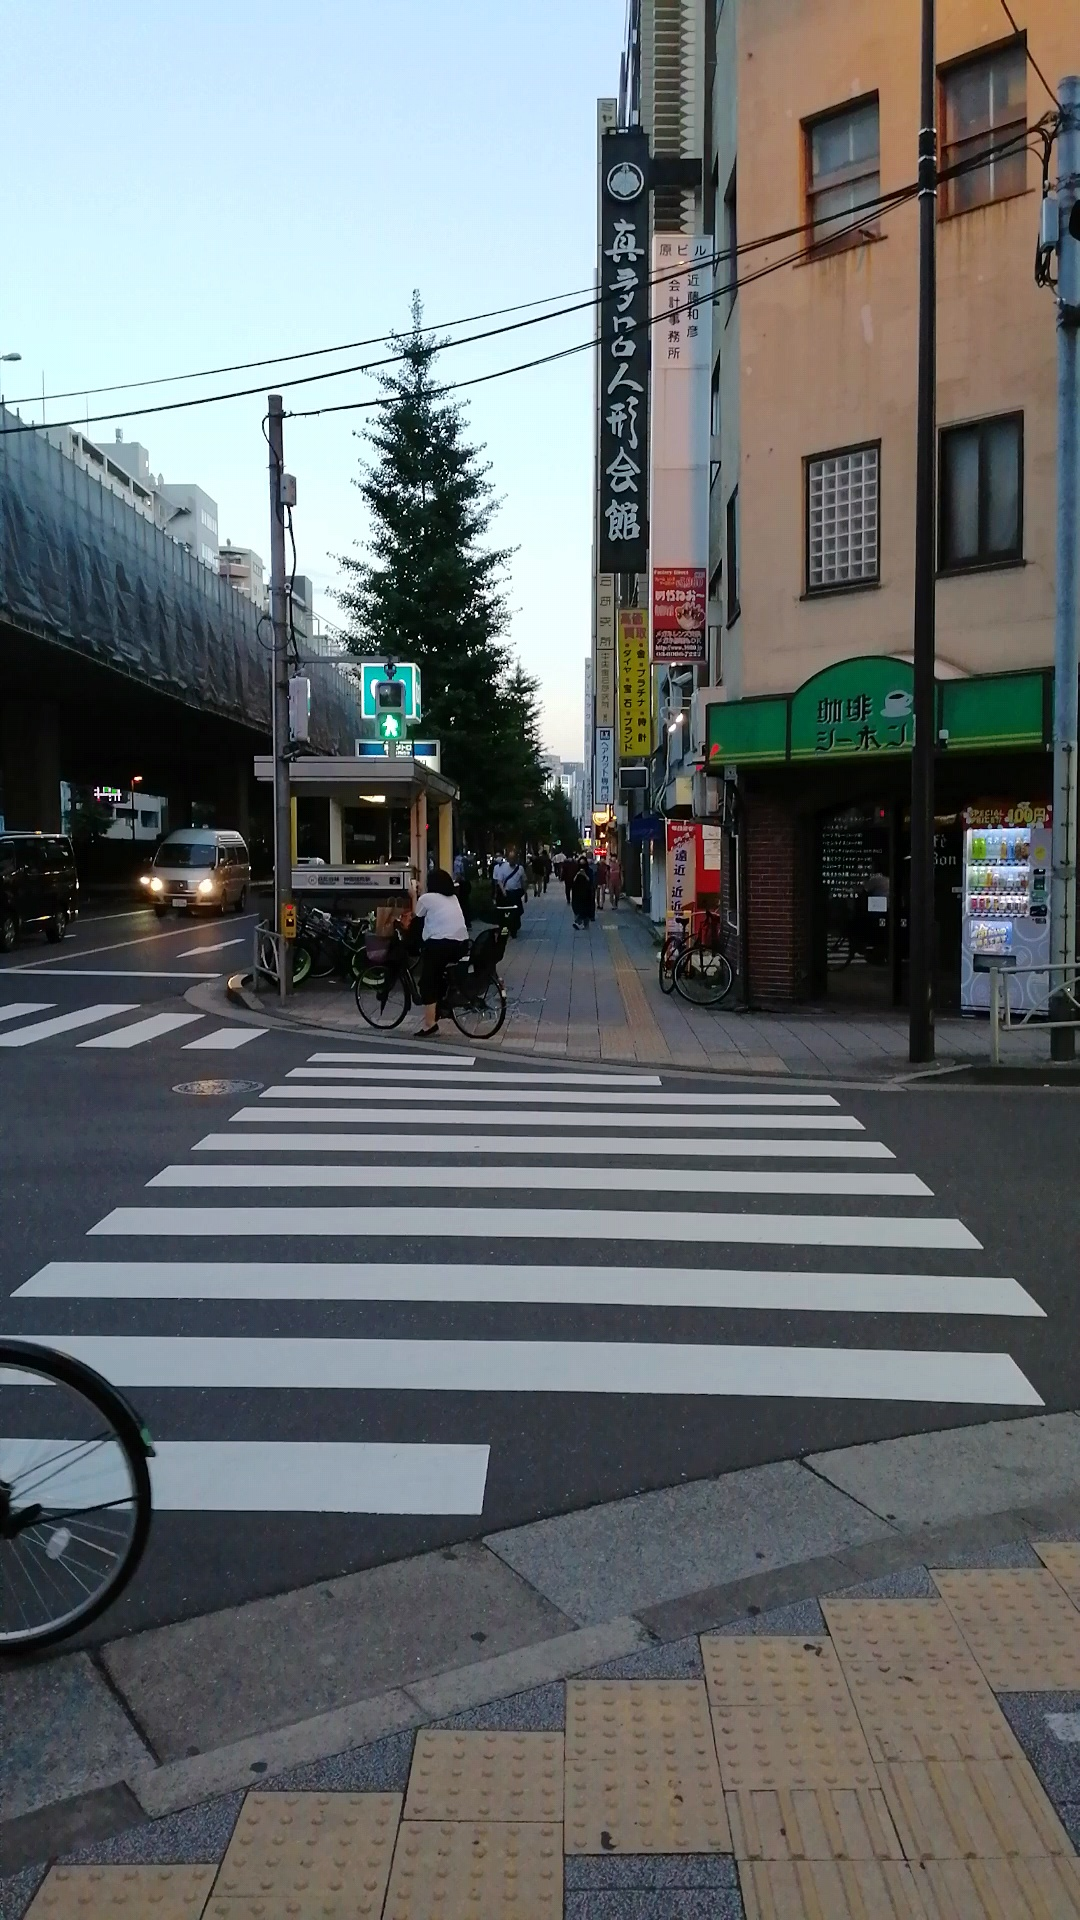green: (375, 679, 407, 742)
